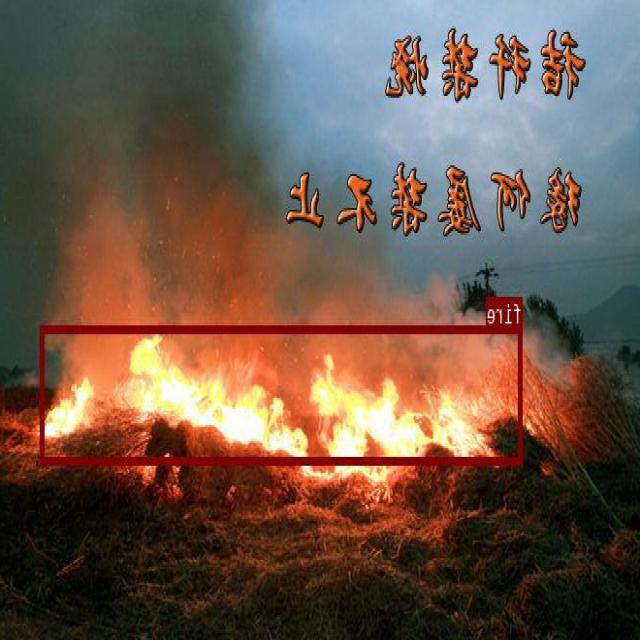fire: (41, 326, 523, 464)
